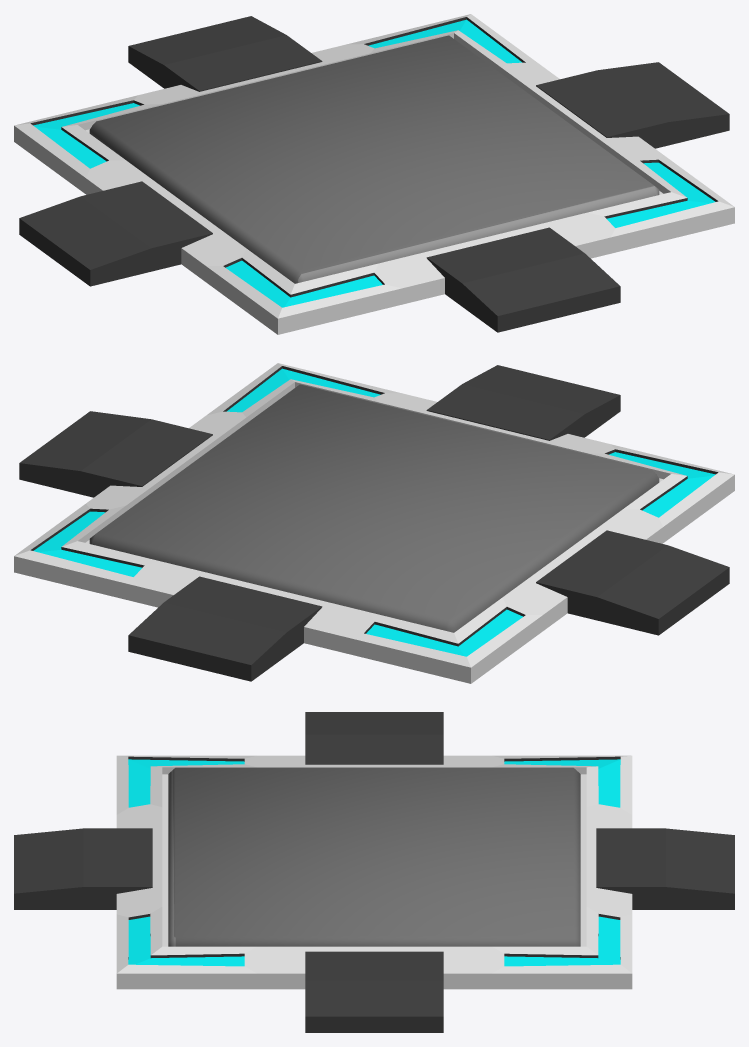
File: Pressure Plate.fbx
3 renders of one model, top to bottom at view 1: azimuth 30°, elevation 25°; view 2: azimuth 150°, elevation 25°; view 3: azimuth 270°, elevation 25°, orthographic. The views are drawn at different scales.
Visible parts, largest first — view 1: Pressure Plate, Cube, Plate Housing; view 2: Pressure Plate, Cube, Plate Housing; view 3: Pressure Plate, Cube, Plate Housing.
Part boxes in pixels (x1,y1,x2,y2): Pressure Plate: (89, 35, 659, 283); Cube: (19, 16, 729, 332); Plate Housing: (14, 14, 734, 334); Pressure Plate: (89, 384, 659, 632); Cube: (19, 365, 729, 681); Plate Housing: (14, 363, 734, 683); Pressure Plate: (168, 767, 580, 946); Cube: (14, 712, 734, 1032); Plate Housing: (116, 755, 632, 989).
Bounding box in the file's own units: 3.5 × 3.5 × 0.155.
